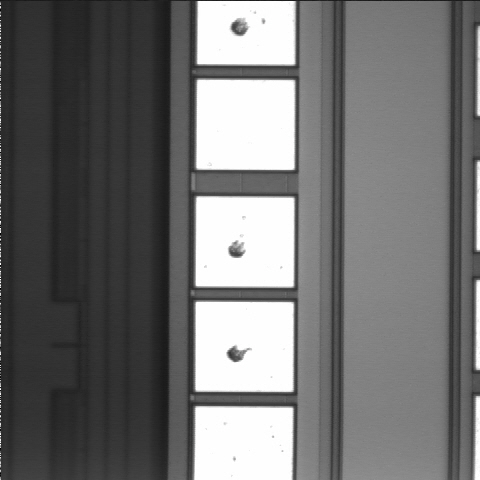pad: (196, 80, 295, 170), (195, 302, 294, 392), (196, 197, 294, 287)
